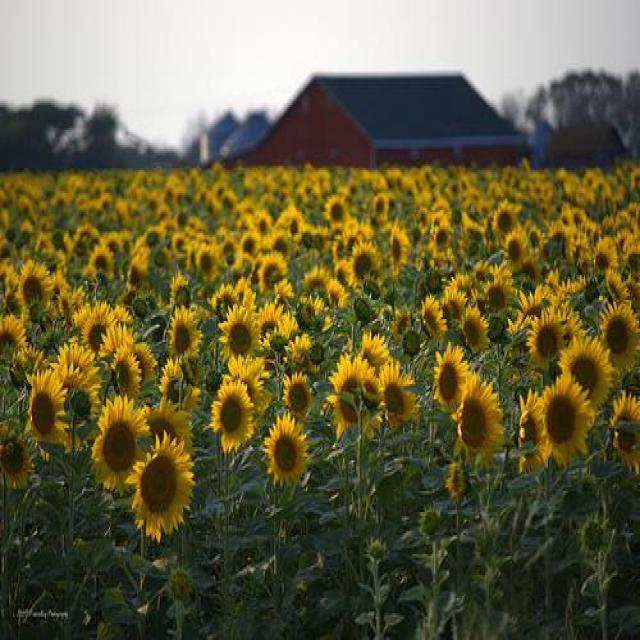sunflower: (124, 431, 194, 542), (90, 396, 154, 502), (542, 373, 593, 467), (452, 378, 503, 461), (562, 332, 612, 412), (210, 374, 256, 456), (27, 367, 69, 451), (328, 352, 366, 440), (264, 411, 308, 487), (601, 300, 640, 380), (225, 352, 272, 414), (518, 388, 550, 474), (378, 361, 419, 427), (150, 399, 196, 457), (432, 340, 470, 408), (218, 305, 262, 362), (527, 304, 565, 368), (613, 388, 640, 474), (165, 310, 206, 361), (0, 434, 33, 490), (82, 305, 114, 356), (344, 242, 382, 284), (255, 253, 289, 297), (112, 346, 140, 399), (57, 342, 99, 376), (282, 371, 312, 418), (508, 285, 540, 329), (284, 333, 320, 372), (461, 306, 490, 354), (257, 300, 294, 334), (72, 376, 100, 418), (300, 294, 332, 330), (422, 294, 448, 337), (359, 358, 384, 401), (388, 223, 408, 276), (19, 265, 49, 300), (159, 358, 183, 401), (99, 323, 133, 353), (490, 202, 516, 240), (134, 342, 158, 383), (1, 315, 27, 352), (359, 332, 388, 360), (210, 282, 240, 309), (442, 287, 467, 319), (302, 265, 332, 291), (485, 274, 507, 309), (389, 306, 413, 338), (606, 269, 629, 302), (326, 196, 348, 230), (92, 244, 114, 278), (504, 234, 524, 270), (286, 205, 306, 240), (595, 241, 618, 271), (564, 307, 582, 344), (447, 461, 464, 499), (431, 222, 451, 254), (198, 246, 216, 280), (372, 193, 389, 223), (328, 279, 345, 308), (242, 231, 256, 261)
